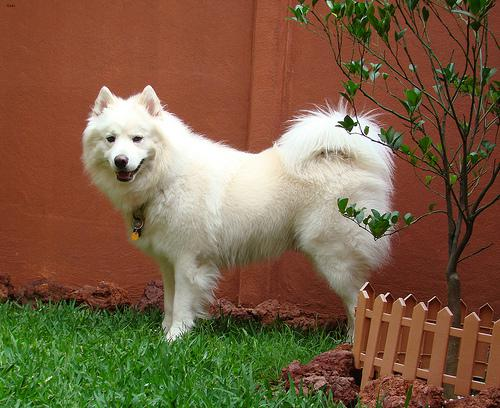dog-samoyed: (89, 83, 165, 182)
